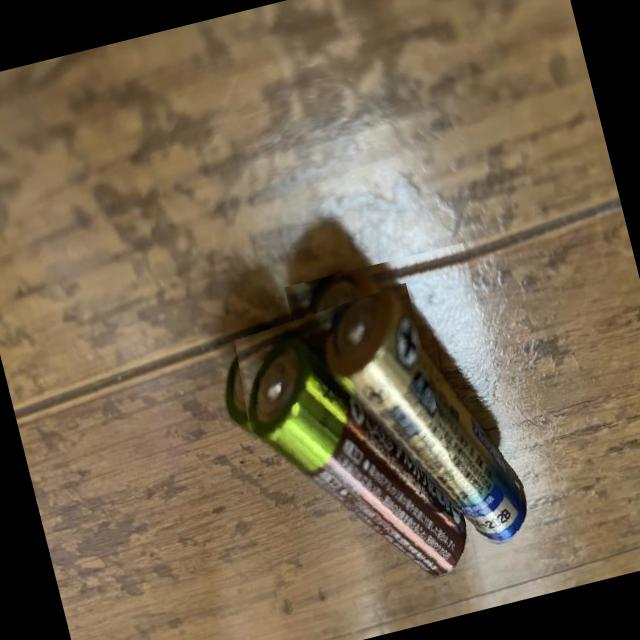Hazard: (205, 279, 475, 616), (274, 241, 536, 583)
